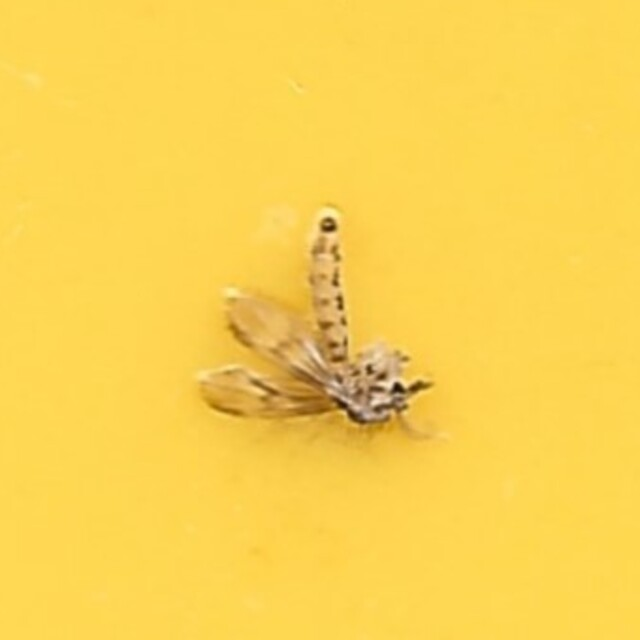Nematocera: (188, 201, 452, 439)
